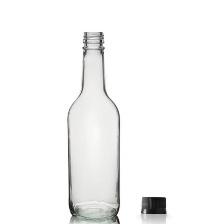bottle: (64, 21, 130, 220)
